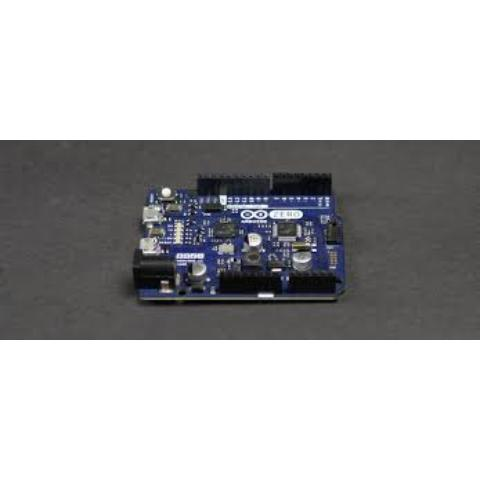Arduino-Zero: (122, 142, 354, 322)
